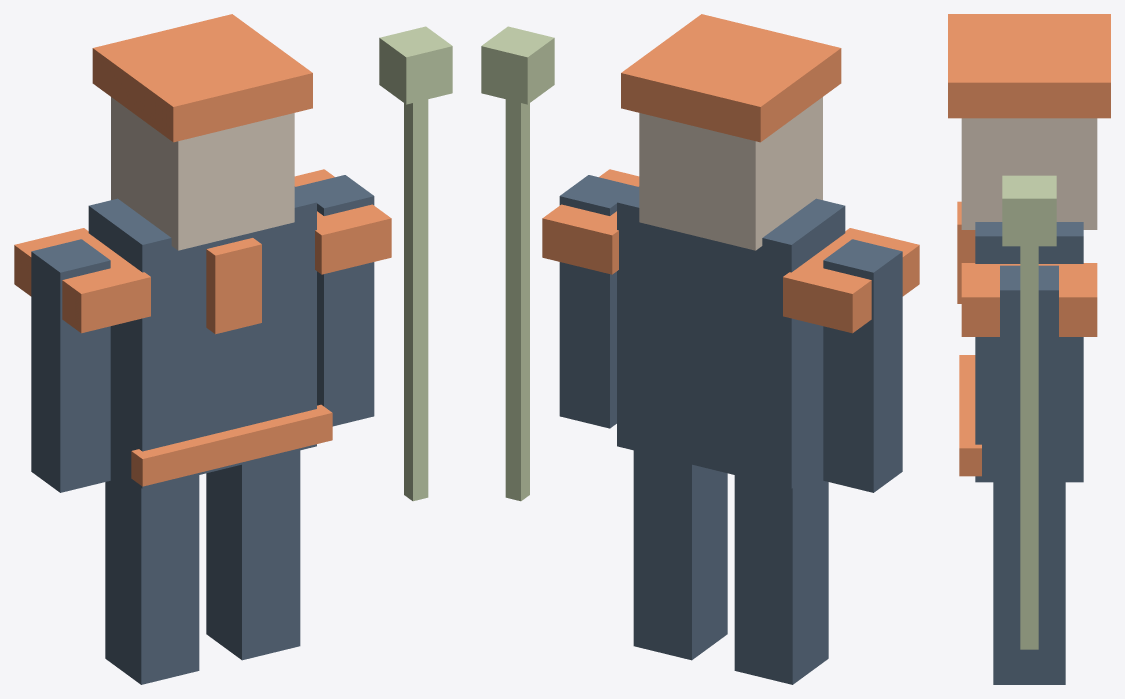
File: 17_isolde_gravesong_cartographer_near_power.glb
3 renders of one model, left to right at view 1: azimuth 30°, elevation 25°; view 2: azimuth 150°, elevation 25°; view 3: azimuth 270°, elevation 25°, orthographic.
Parts seen in each view (by area): view 1: Isolde Gravesong, Cartographer near Power; view 2: Isolde Gravesong, Cartographer near Power; view 3: Isolde Gravesong, Cartographer near Power.
Boxes of the visible parts, x1,y1,x2,y2 form: Isolde Gravesong, Cartographer near Power: [14, 14, 452, 684]; Isolde Gravesong, Cartographer near Power: [481, 14, 919, 684]; Isolde Gravesong, Cartographer near Power: [948, 14, 1110, 684].
Size of the model in its own units: 1.06 by 1.52 by 0.3746.
